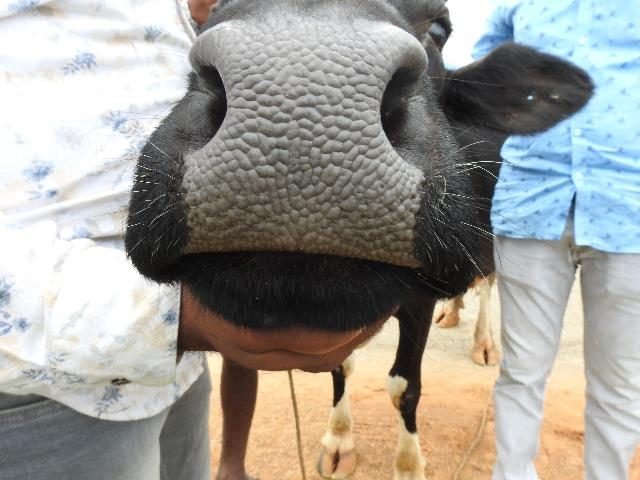Muzzle: (211, 31, 403, 264)
